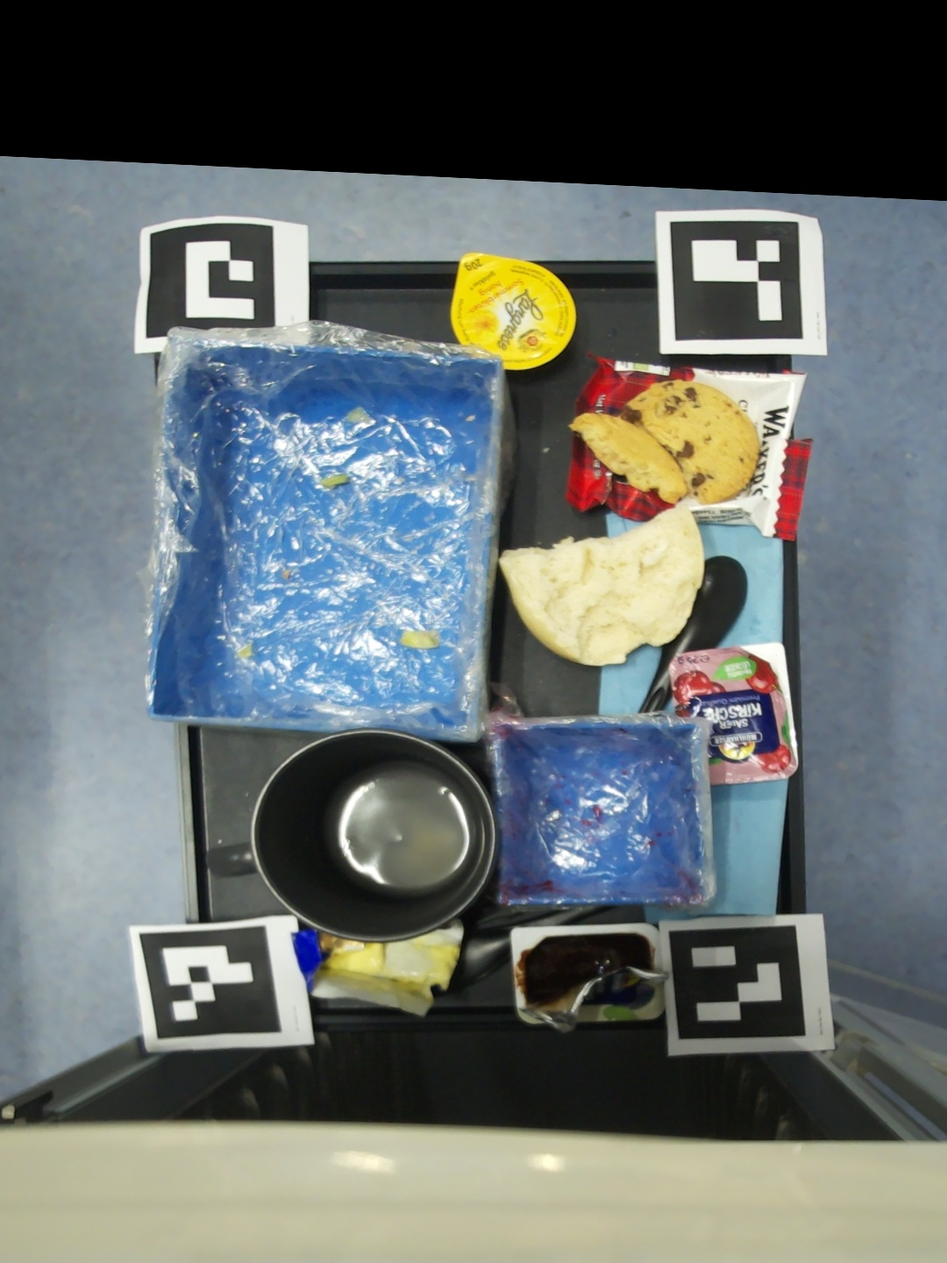bread_roll: (499, 504, 704, 668)
butter: (292, 918, 463, 1018)
cherry_jam: (668, 643, 798, 786)
coffee_cup: (206, 730, 497, 942)
cookie: (565, 350, 814, 540)
honey: (450, 253, 576, 369)
plum_jam: (510, 923, 667, 1035)
wrap_half_1: (399, 632, 438, 649), (320, 474, 348, 488), (348, 408, 370, 423), (239, 645, 253, 658), (282, 570, 291, 578)
